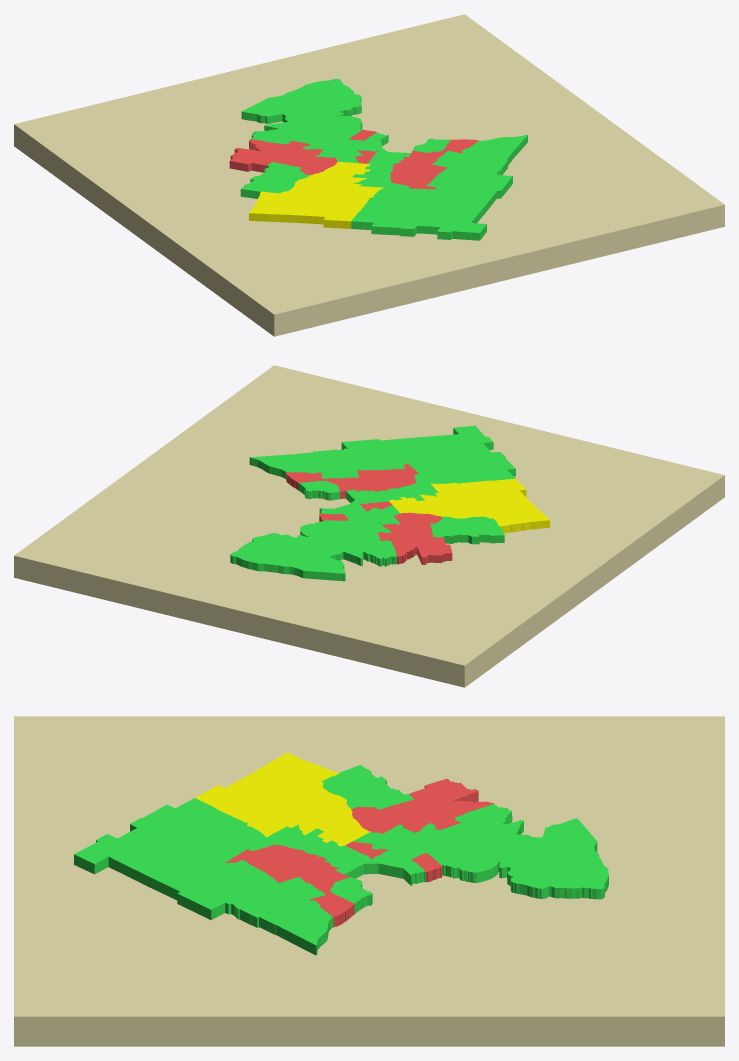
The model's file is tallermap.glb.
3 renders of one model, top to bottom at view 1: azimuth 30°, elevation 25°; view 2: azimuth 150°, elevation 25°; view 3: azimuth 270°, elevation 25°, orthographic. The views are drawn at different scales.
Visible parts, largest first — view 1: Plane, Cañuelas, SAN FERNANDO PARTIDO, general las heras, SAN VICENTE, PILAR, MARCOS PAZ, General Rodriguez, TIGRE, LA MATANZA, ESCOBAR, BERAZATEGUI (+4 smaller); view 2: Plane, Cañuelas, SAN FERNANDO PARTIDO, general las heras, SAN VICENTE, PILAR, General Rodriguez, MARCOS PAZ, ESCOBAR, TIGRE, LA MATANZA, BERAZATEGUI (+4 smaller); view 3: Plane, Cañuelas, SAN FERNANDO PARTIDO, SAN VICENTE, general las heras, TIGRE, MARCOS PAZ, PILAR, General Rodriguez, BERAZATEGUI, LA MATANZA, ESCOBAR (+11 smaller).
Boxes of the visible parts, x1,y1,x2,y2 form: Plane: (14, 14, 724, 336); Cañuelas: (351, 183, 486, 240); SAN FERNANDO PARTIDO: (241, 79, 361, 123); general las heras: (249, 191, 369, 228); SAN VICENTE: (426, 167, 512, 215); PILAR: (229, 139, 310, 172); MARCOS PAZ: (280, 174, 383, 198); General Rodriguez: (240, 162, 310, 198); TIGRE: (301, 116, 362, 144); LA MATANZA: (352, 151, 411, 187); ESCOBAR: (251, 120, 314, 144); BERAZATEGUI: (468, 134, 527, 169); Plane: (14, 365, 724, 687); Cañuelas: (411, 425, 515, 484); SAN FERNANDO PARTIDO: (230, 533, 345, 581); general las heras: (459, 478, 549, 533); SAN VICENTE: (340, 437, 435, 469); PILAR: (378, 528, 452, 564); General Rodriguez: (430, 516, 504, 544); MARCOS PAZ: (419, 482, 493, 518); ESCOBAR: (331, 532, 396, 566); TIGRE: (300, 516, 369, 545); LA MATANZA: (345, 483, 438, 503); BERAZATEGUI: (249, 451, 323, 479); Plane: (14, 716, 724, 1046); Cañuelas: (74, 798, 274, 882); SAN FERNANDO PARTIDO: (495, 818, 608, 899); SAN VICENTE: (141, 852, 260, 920); general las heras: (195, 752, 338, 822); TIGRE: (409, 831, 509, 882); MARCOS PAZ: (247, 781, 351, 837); PILAR: (392, 778, 494, 830); General Rodriguez: (321, 765, 413, 809); BERAZATEGUI: (251, 906, 333, 955); LA MATANZA: (267, 824, 370, 878); ESCOBAR: (439, 804, 523, 843).
Bounding box in the file's own units: 5.62 × 0.3822 × 5.62.
